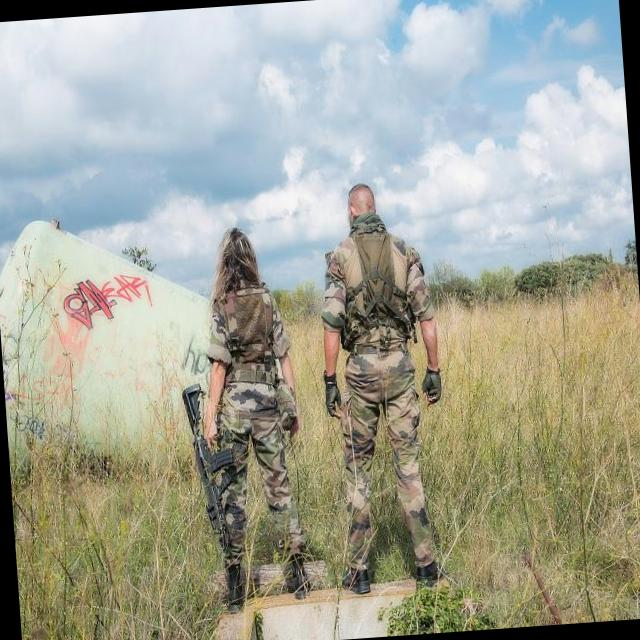Gun: (181, 384, 233, 547)
